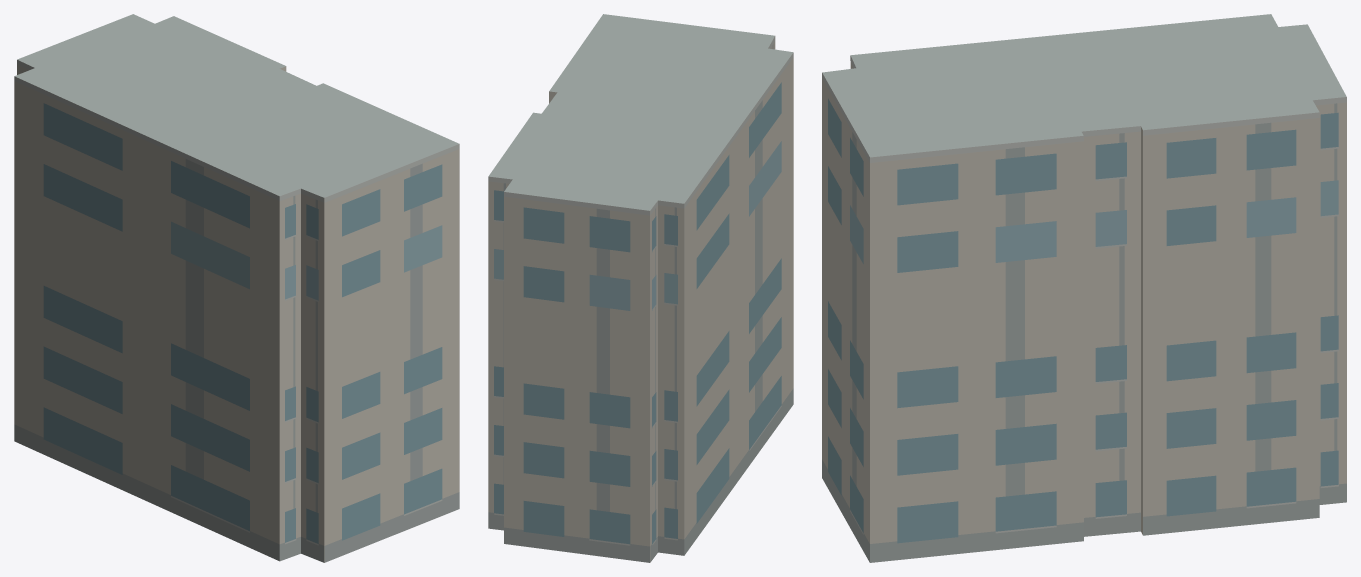
File: survey-upis-32812200.glb
3 renders of one model, left to right at view 1: azimuth 30°, elevation 25°; view 2: azimuth 150°, elevation 25°; view 3: azimuth 270°, elevation 25°, orthographic. The views are drawn at different scales.
Parts seen in each view (by area): view 1: survey-upis-32812200.tmp; view 2: survey-upis-32812200.tmp; view 3: survey-upis-32812200.tmp.
Part boxes in pixels (x1,y1,x2,y2): survey-upis-32812200.tmp: (14, 14, 459, 562); survey-upis-32812200.tmp: (488, 14, 793, 562); survey-upis-32812200.tmp: (822, 14, 1346, 562).
Bounding box in the file's own units: 13.67 × 18 × 21.12.
